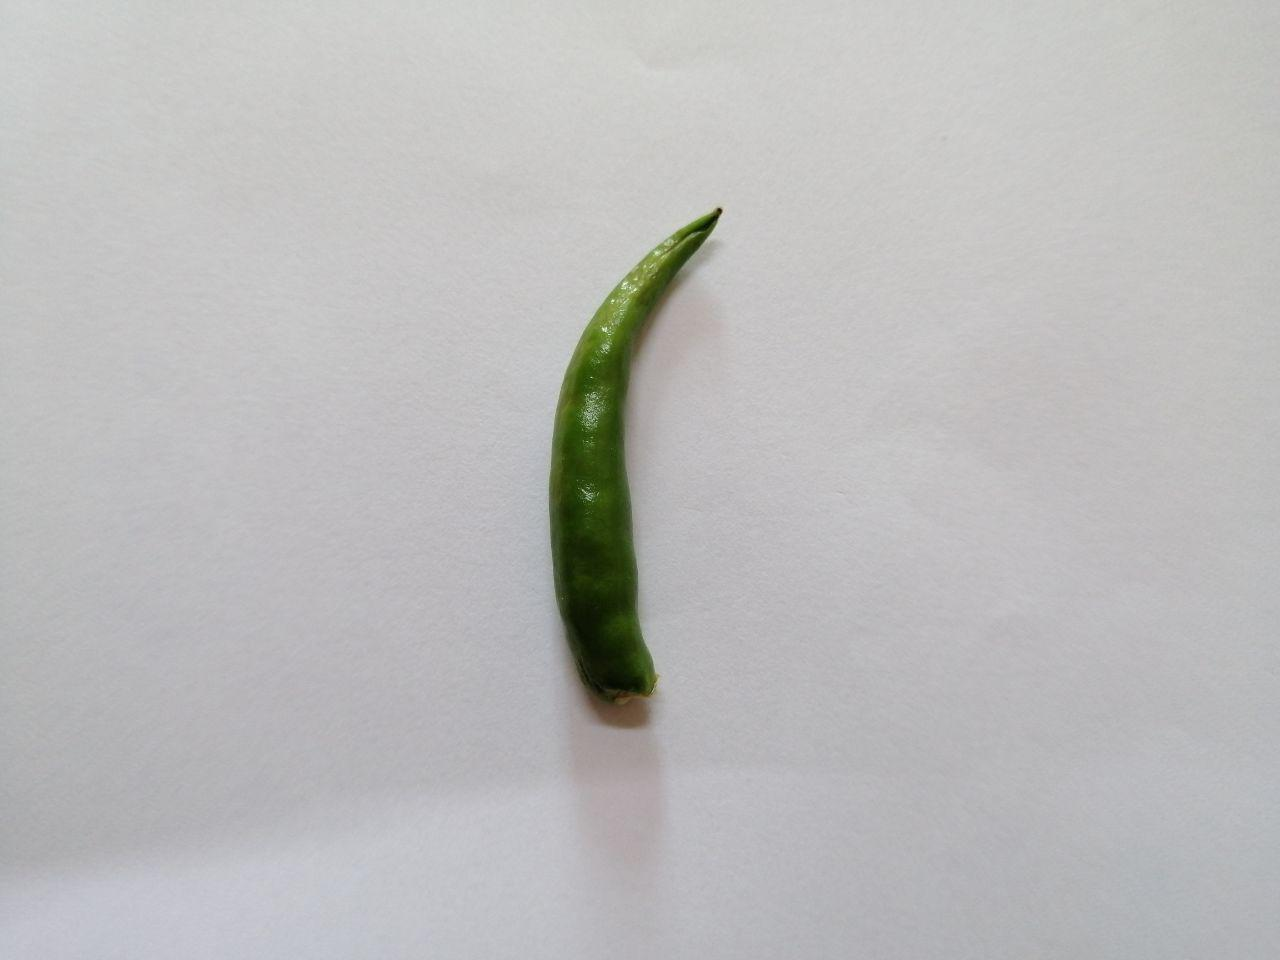lada hijau: (537, 189, 734, 719)
